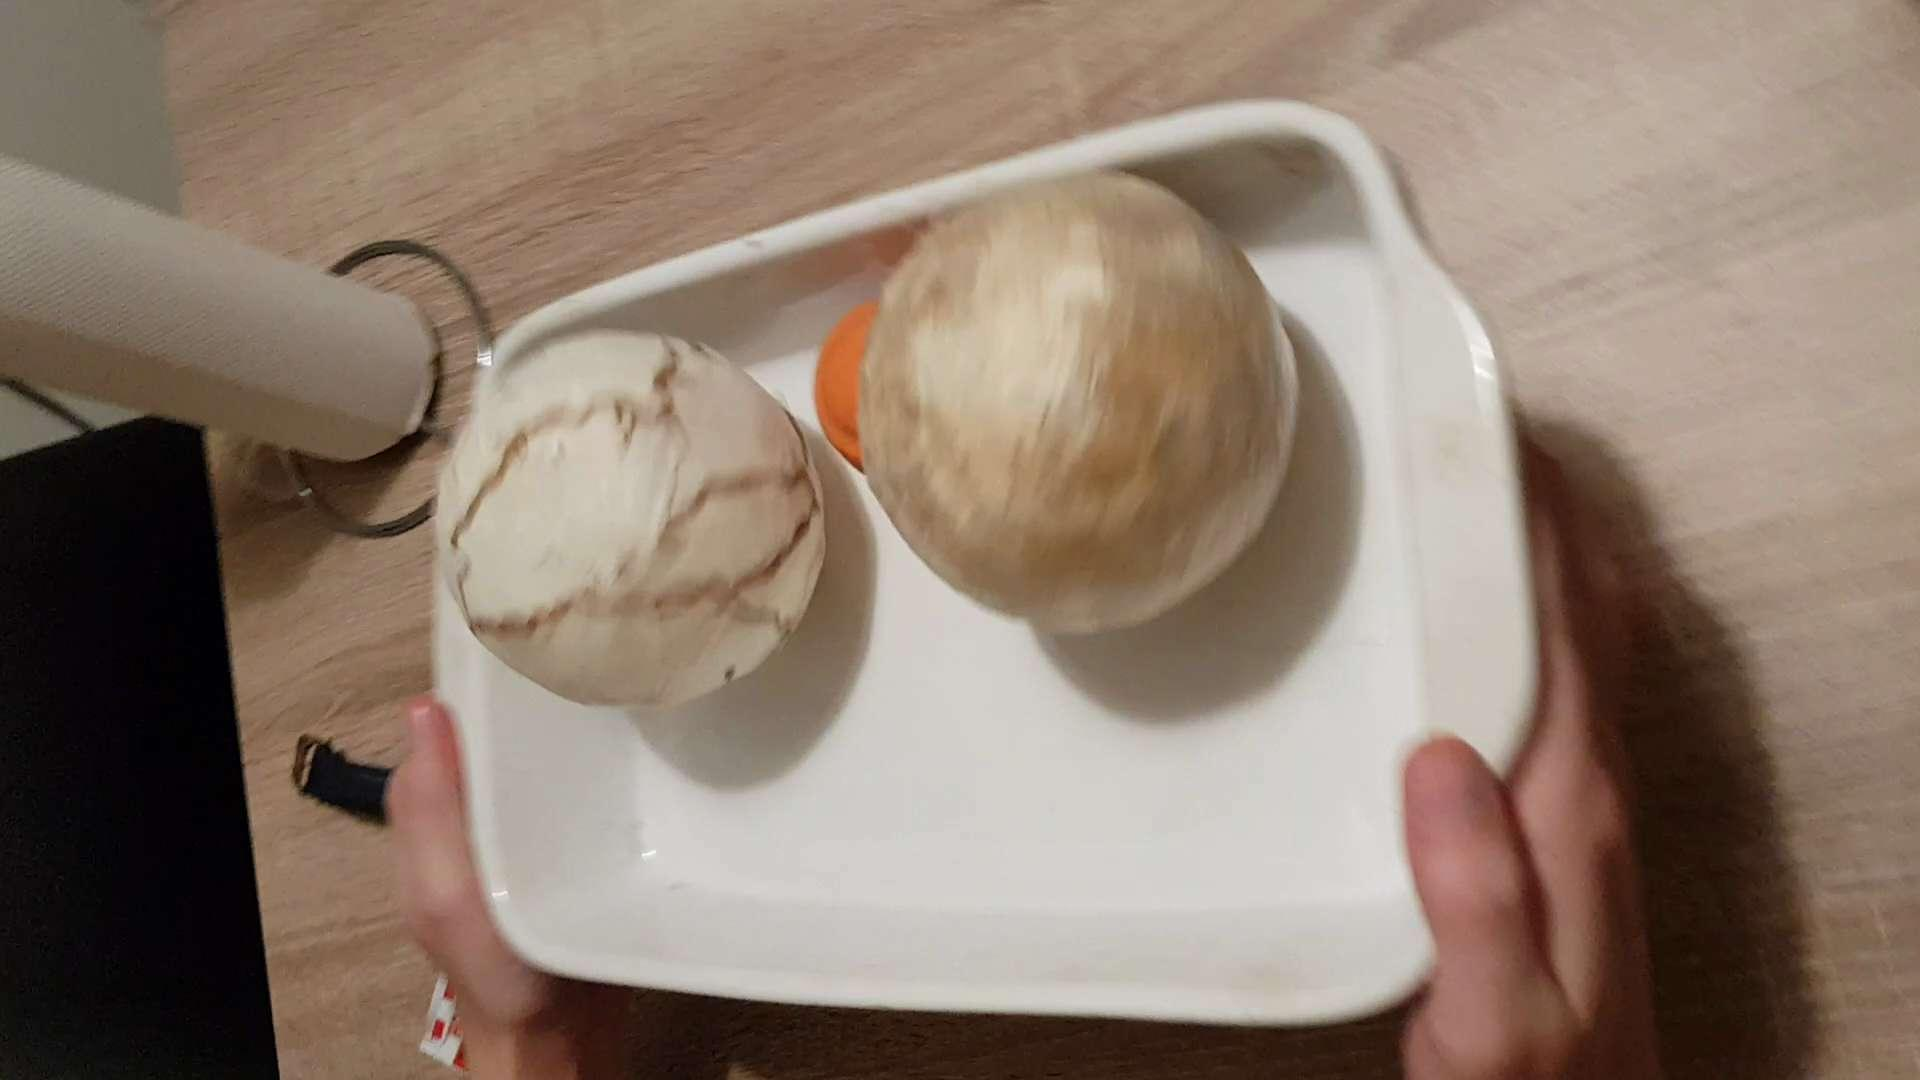Sphere: (848, 165, 1305, 632)
sphere: (421, 319, 841, 705)
